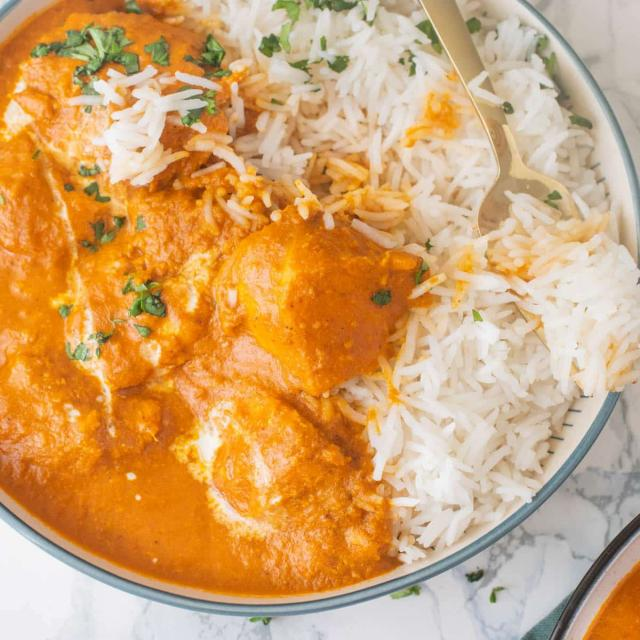Chicken Tikka: (0, 0, 418, 598)
